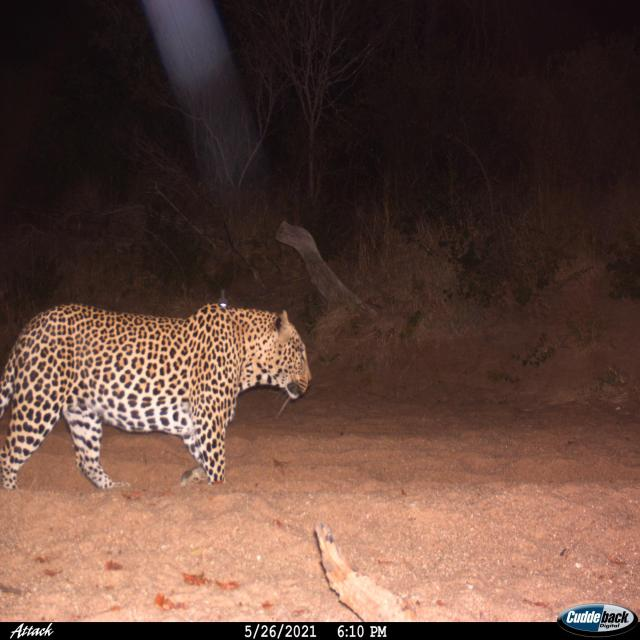Leopard: (4, 282, 314, 513)
